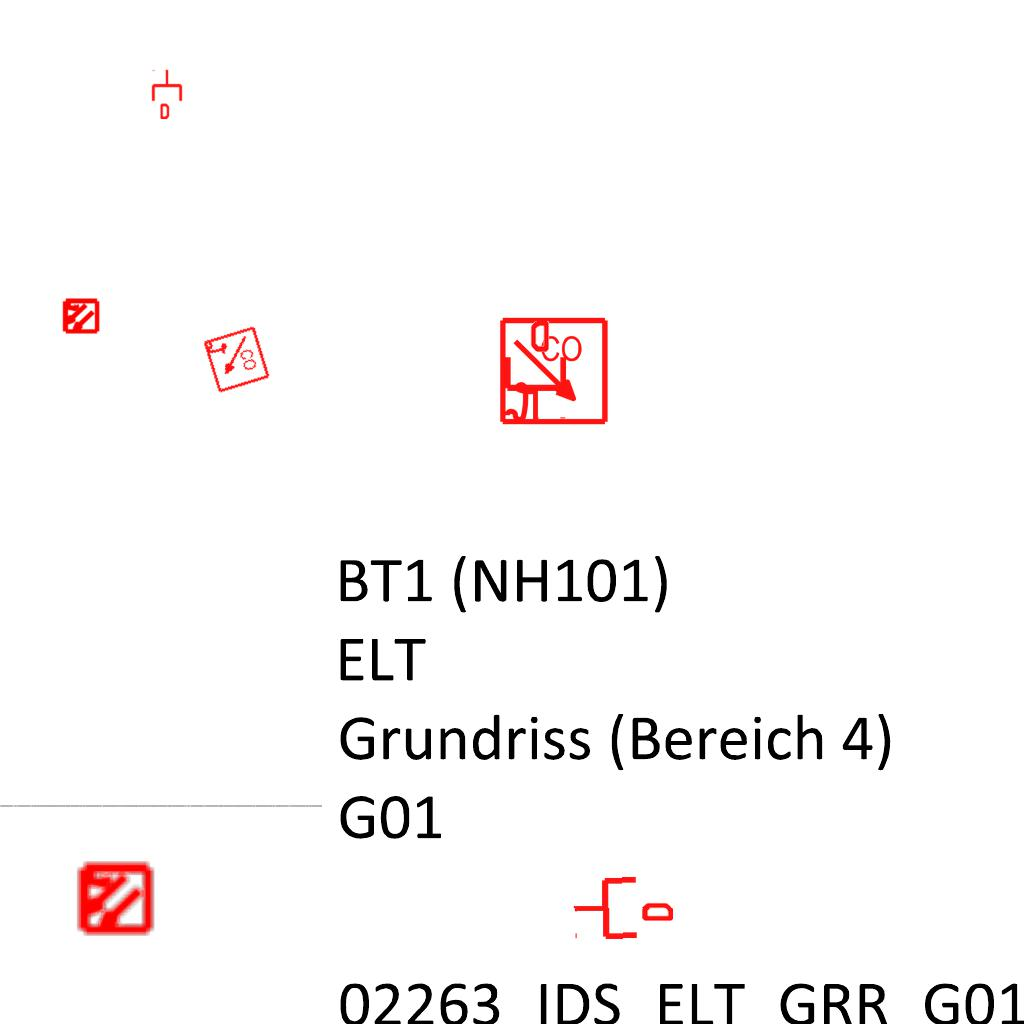Datenanschluss_einfach: (571, 872, 674, 944), (501, 321, 570, 421), (150, 69, 184, 119)
OT_Multisensormelder_(Kombination_RMO_WMD): (57, 842, 170, 955), (52, 288, 108, 344)
ROA_Rauchmelder_optisch_mit_Signalgeber_(Sockelsirene): (498, 316, 611, 429), (201, 325, 271, 395)
